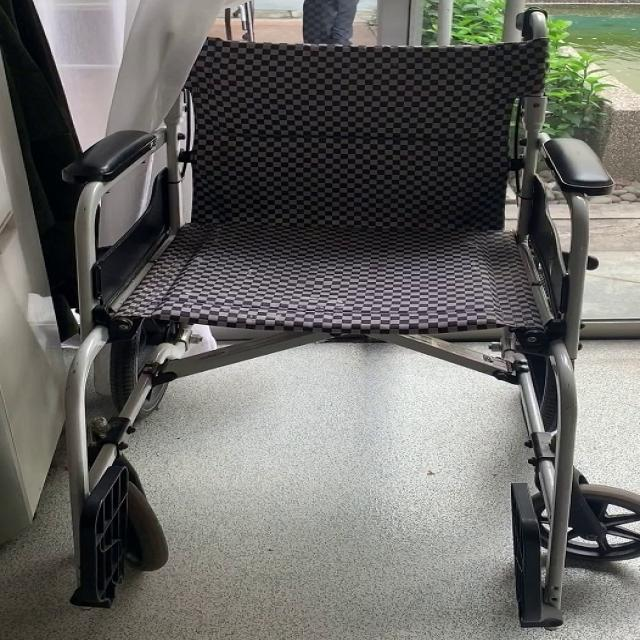wheelchair: (37, 0, 640, 624)
